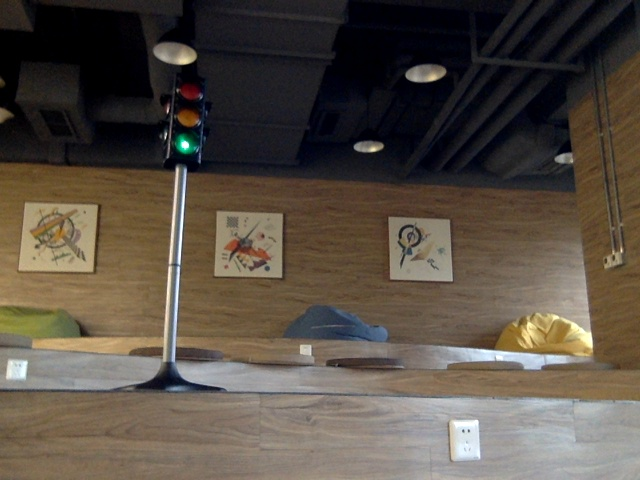green: (170, 80, 200, 160)
